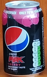pepsi: (3, 1, 45, 77)
